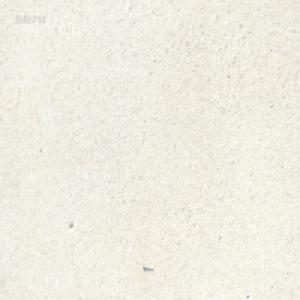Nail: (142, 263, 153, 271)
